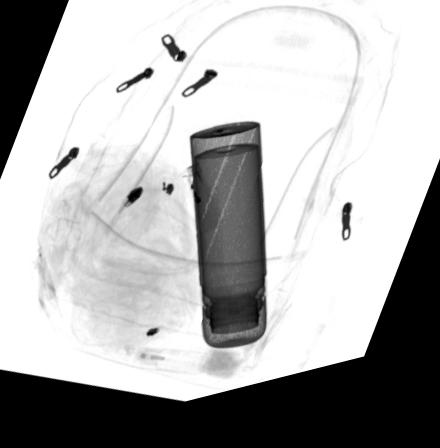Lighter: (175, 172, 223, 243)
